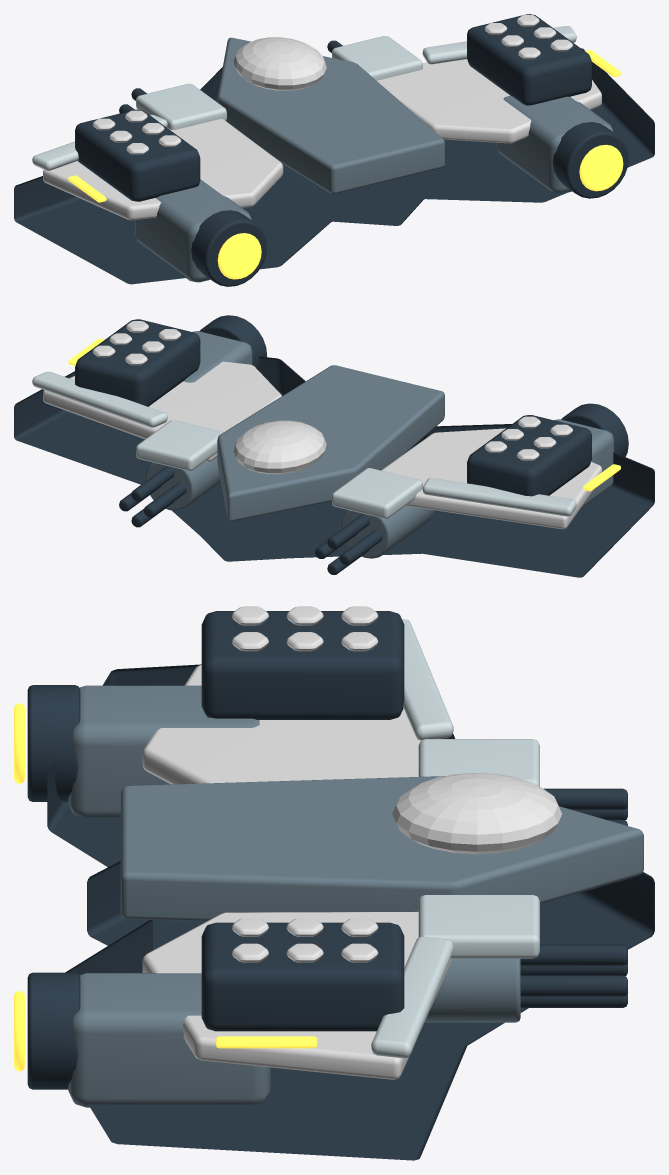
The model's file is Manta.fbx.
3 views of the same model, one above another, from view 1: azimuth 30°, elevation 25°; view 2: azimuth 150°, elevation 25°; view 3: azimuth 270°, elevation 25° (orthographic). The views are drawn at different scales.
Parts seen in each view (by area): view 1: Broad manta armor, Central command shell, Ochre wing armor.001, Ochre wing armor, Missile cassette, Missile cassette.001, Heavy engine, Heavy engine.001, Low armored canopy, Armored thruster, Armored thruster.001, Gun shield (+5 smaller); view 2: Broad manta armor, Central command shell, Ochre wing armor.001, Ochre wing armor, Missile cassette.001, Missile cassette, Low armored canopy, Gun shield, Gun shield.001, Wing ivory rim, Wing ivory rim.001, Rotary gun housing (+9 smaller); view 3: Central command shell, Broad manta armor, Missile cassette, Heavy engine.001, Missile cassette.001, Ochre wing armor, Heavy engine, Ochre wing armor.001, Low armored canopy, Gun shield.001, Armored thruster.001, Armored thruster (+12 smaller).
Part boxes in pixels (<box>): Broad manta armor: <box>14,48,654,284</box>; Central command shell: <box>217,37,444,193</box>; Ochre wing armor.001: <box>377,59,601,143</box>; Ochre wing armor: <box>43,119,283,220</box>; Missile cassette: <box>75,109,200,201</box>; Missile cassette.001: <box>467,14,591,105</box>; Heavy engine: <box>135,179,251,282</box>; Heavy engine.001: <box>496,95,613,192</box>; Low armored canopy: <box>233,37,326,90</box>; Armored thruster: <box>191,210,267,286</box>; Armored thruster.001: <box>553,122,628,198</box>; Gun shield: <box>136,83,226,129</box>; Broad manta armor: <box>14,356,654,577</box>; Central command shell: <box>217,365,444,521</box>; Ochre wing armor.001: <box>43,361,281,461</box>; Ochre wing armor: <box>381,428,601,529</box>; Missile cassette.001: <box>75,319,200,406</box>; Missile cassette: <box>467,415,591,496</box>; Low armored canopy: <box>233,420,326,474</box>; Gun shield: <box>332,468,422,518</box>; Gun shield.001: <box>136,420,223,470</box>; Wing ivory rim: <box>422,478,576,516</box>; Wing ivory rim.001: <box>32,371,167,427</box>; Rotary gun housing: <box>341,506,433,558</box>; Central command shell: <box>120,776,643,921</box>; Broad manta armor: <box>47,664,654,1160</box>; Missile cassette: <box>201,611,404,719</box>; Heavy engine.001: <box>68,973,270,1107</box>; Missile cassette.001: <box>201,922,404,1031</box>; Ochre wing armor: <box>142,665,420,784</box>; Heavy engine: <box>68,685,259,817</box>; Ochre wing armor.001: <box>142,911,452,1079</box>; Low armored canopy: <box>392,773,561,854</box>; Gun shield.001: <box>418,895,539,958</box>; Armored thruster.001: <box>27,972,80,1089</box>; Armored thruster: <box>27,685,80,801</box>.
Bounding box in the file's own units: 529 × 89.75 × 317.
